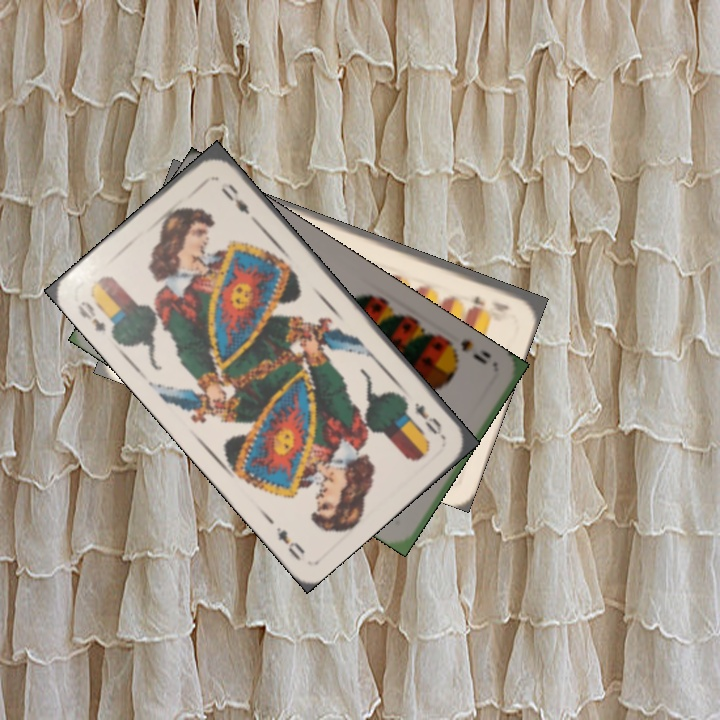E10: (469, 291, 513, 315)
EO: (410, 398, 447, 440), (72, 297, 109, 335)
S9: (443, 335, 490, 367)
